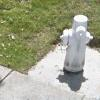a fire hydrant: (60, 13, 94, 73)
